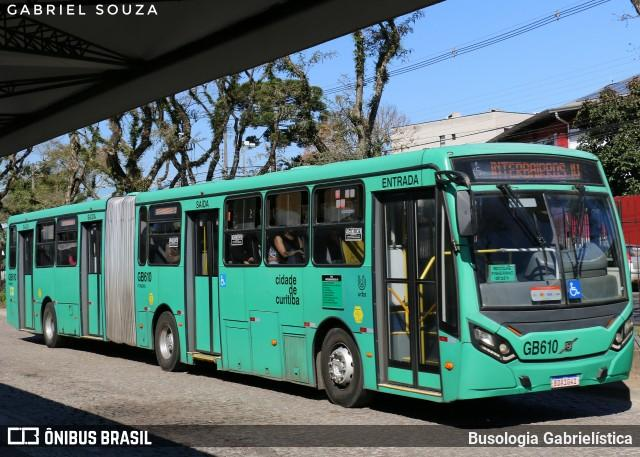INTERBAIRROS IV: (486, 156, 587, 183)
